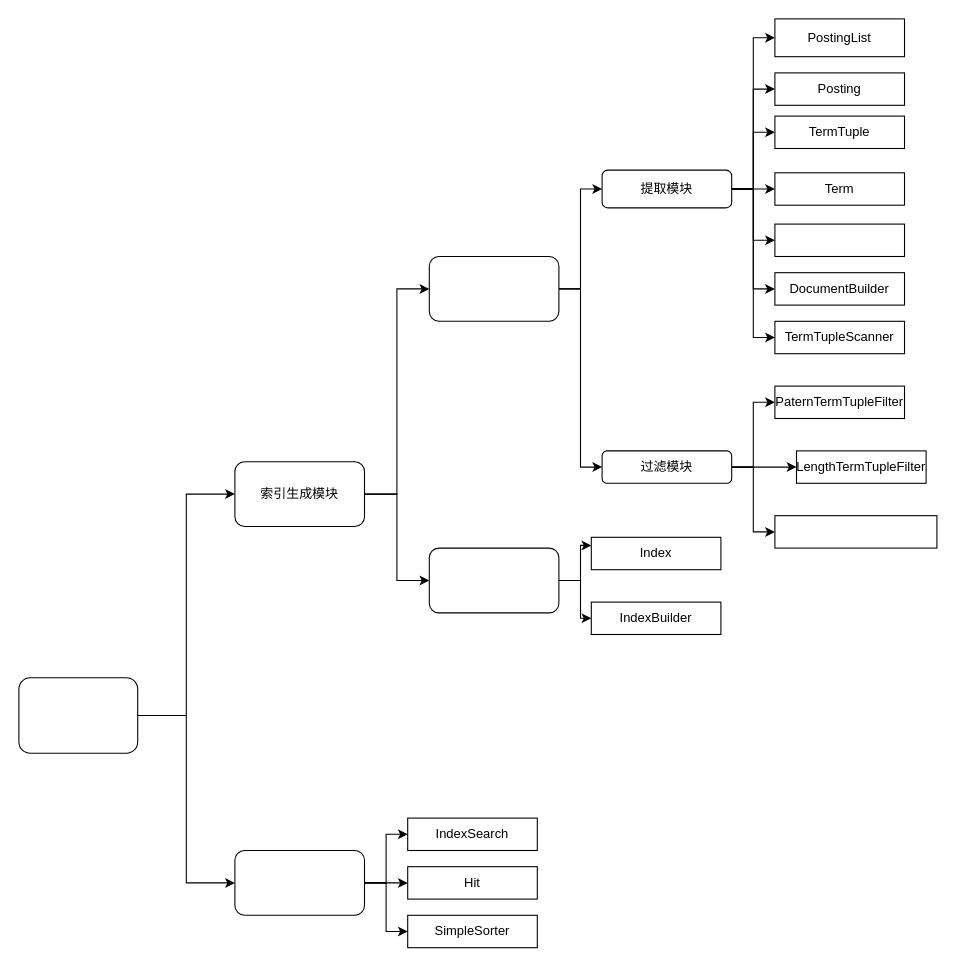
The diagram is 956 pixels wide and 967 high, and some of its shapes have lost their labels. The box of each missing label's shape, as (x1, y1, x2, y2) in pixels:
Documnet: (774, 223, 905, 256)
StopWordTermTupleFilter: (774, 515, 937, 548)
基于内存的搜索引擎: (18, 677, 138, 753)
文档处理模块: (428, 255, 559, 321)
文档处理结果合并模块: (428, 547, 559, 613)
索引查询模块: (234, 849, 364, 915)
